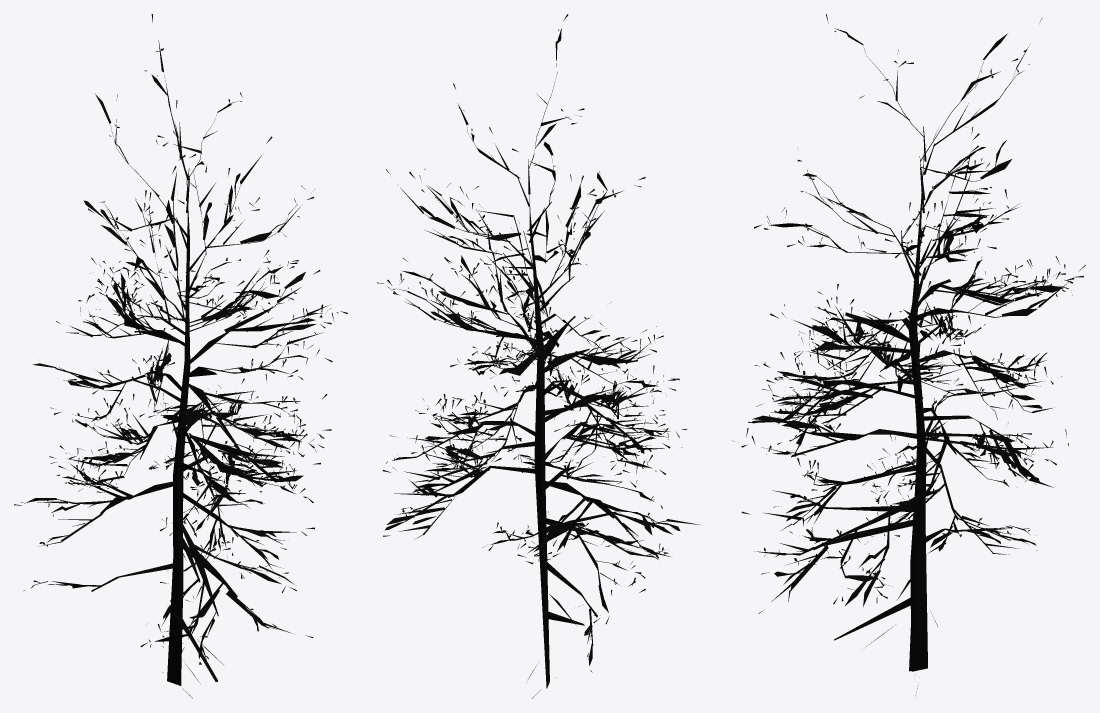
Rendered from Pine_Dense_C.glb.
3 renders of one model, left to right at view 1: azimuth 30°, elevation 25°; view 2: azimuth 150°, elevation 25°; view 3: azimuth 270°, elevation 25°, orthographic. The views are drawn at different scales.
Visible parts, largest first — view 1: tree; view 2: tree; view 3: tree.
Boxes of the visible parts, x1=… form: tree: x1=14, y1=14, x2=347, y2=698; tree: x1=377, y1=14, x2=701, y2=698; tree: x1=732, y1=14, x2=1085, y2=697.
Bounding box in the file's own units: 3.46 × 7.32 × 3.41.
1 material, 1 textured.
